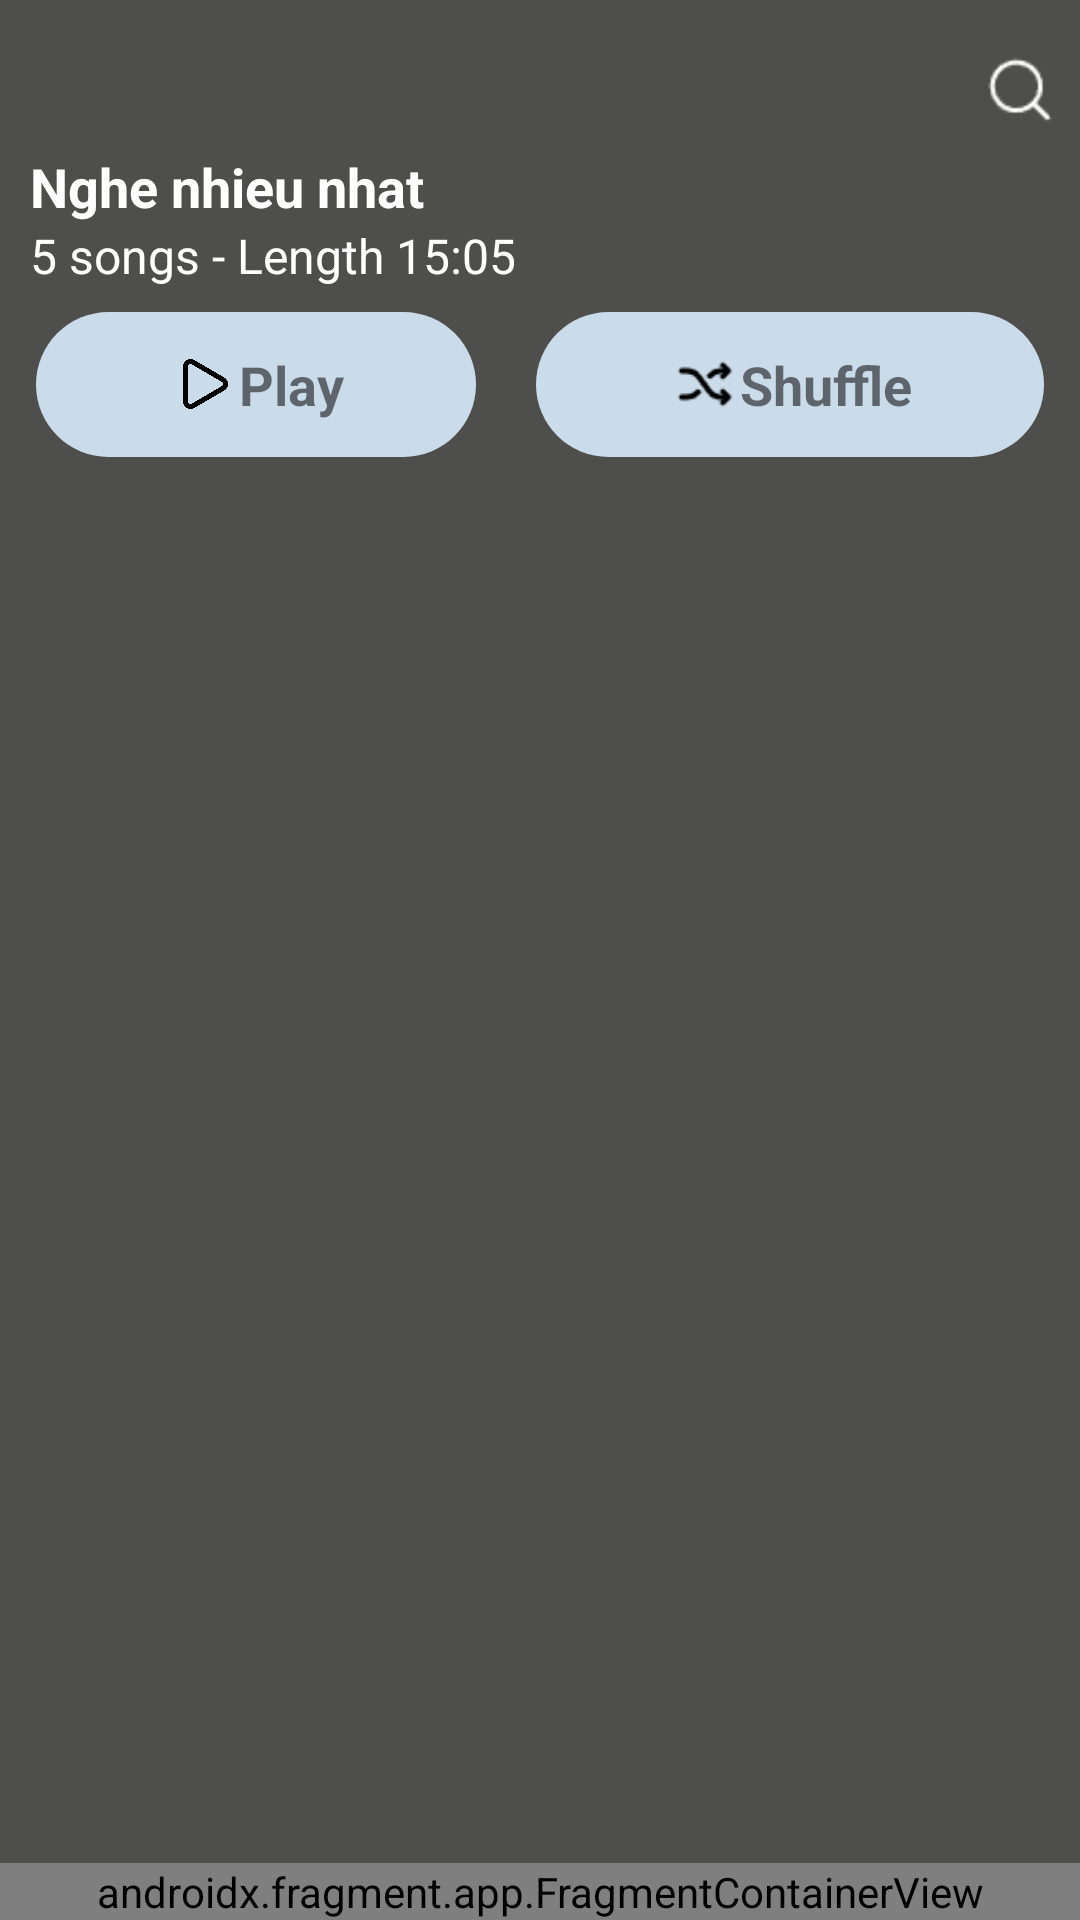

Point at icon controls on the screen. Image size 1080w x 1920h, points as (x,y).
search: (1020,89)
